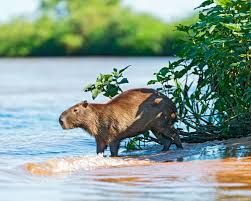capivara: (58, 88, 183, 156)
